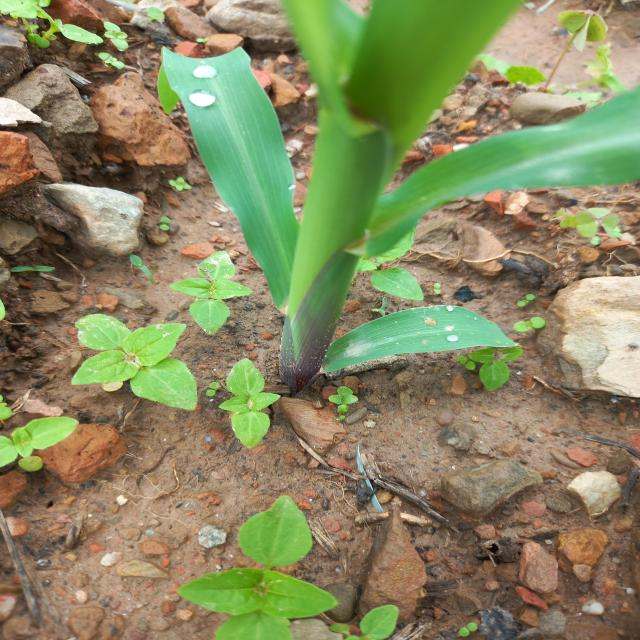maize: (224, 8, 559, 373)
weed: (66, 306, 267, 440), (209, 516, 314, 638), (0, 0, 134, 83), (4, 406, 79, 472), (576, 200, 629, 266)
